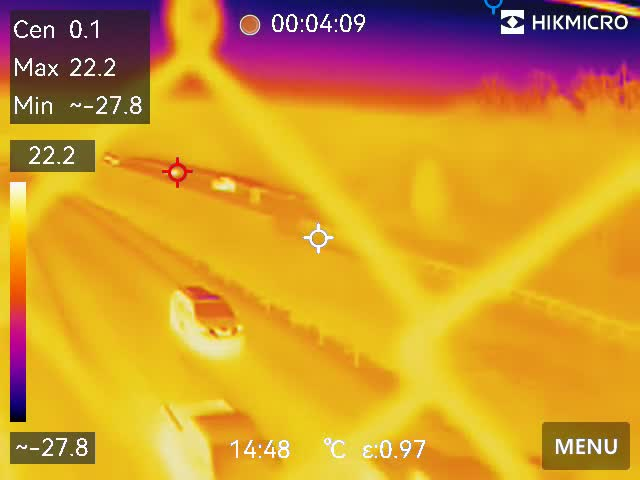largeCar: (167, 278, 245, 354)
